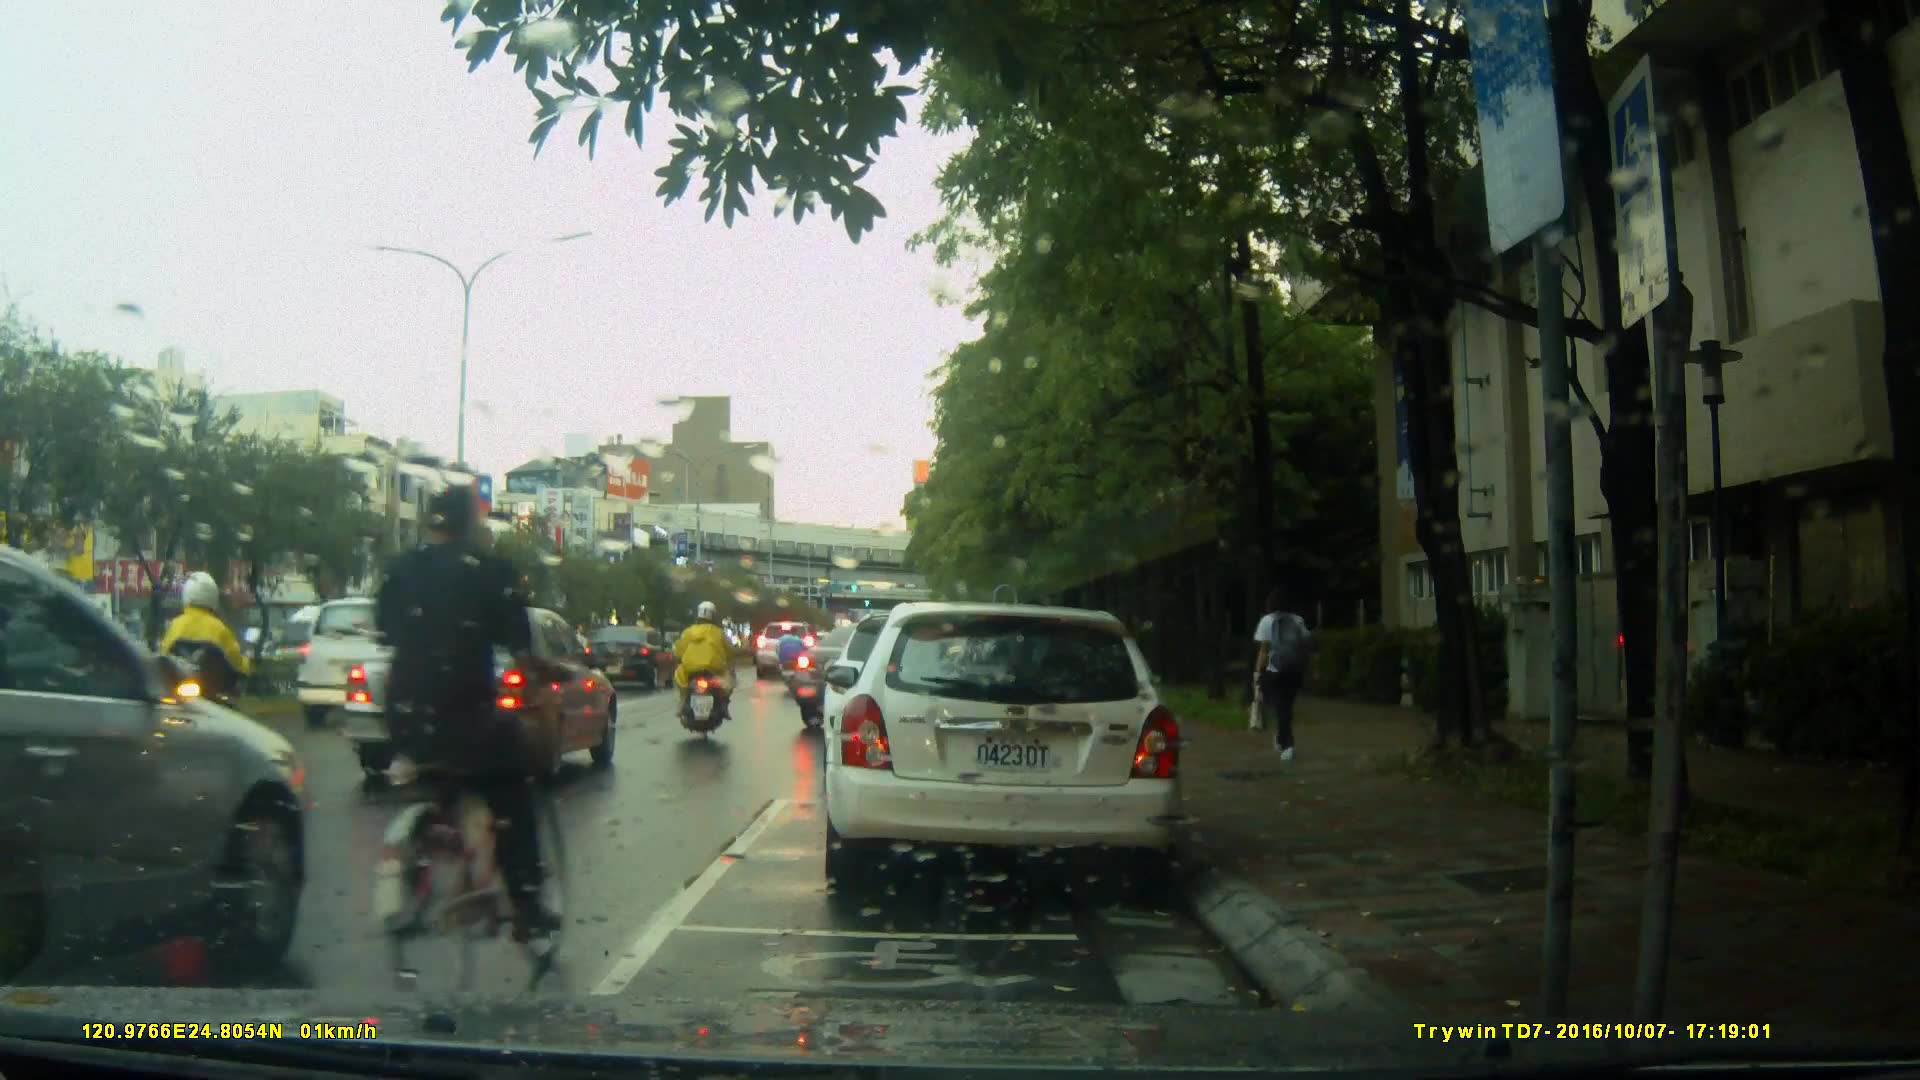pedestrian: (1254, 575, 1319, 764)
rider: (343, 472, 575, 1004), (156, 578, 272, 816), (673, 595, 738, 750), (679, 613, 715, 704), (779, 620, 809, 702)
vehicle: (2, 535, 332, 987), (820, 602, 1188, 898), (345, 601, 630, 783), (294, 596, 498, 729), (792, 621, 1003, 735), (579, 624, 681, 692)
